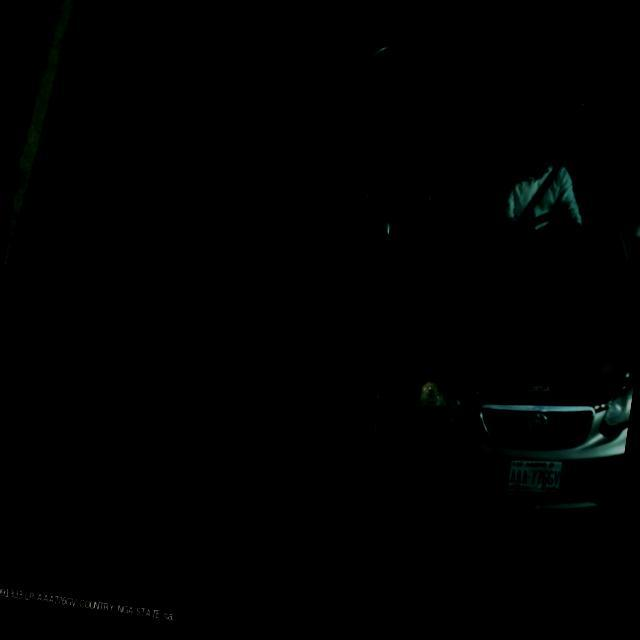windshield: (446, 129, 619, 240)
